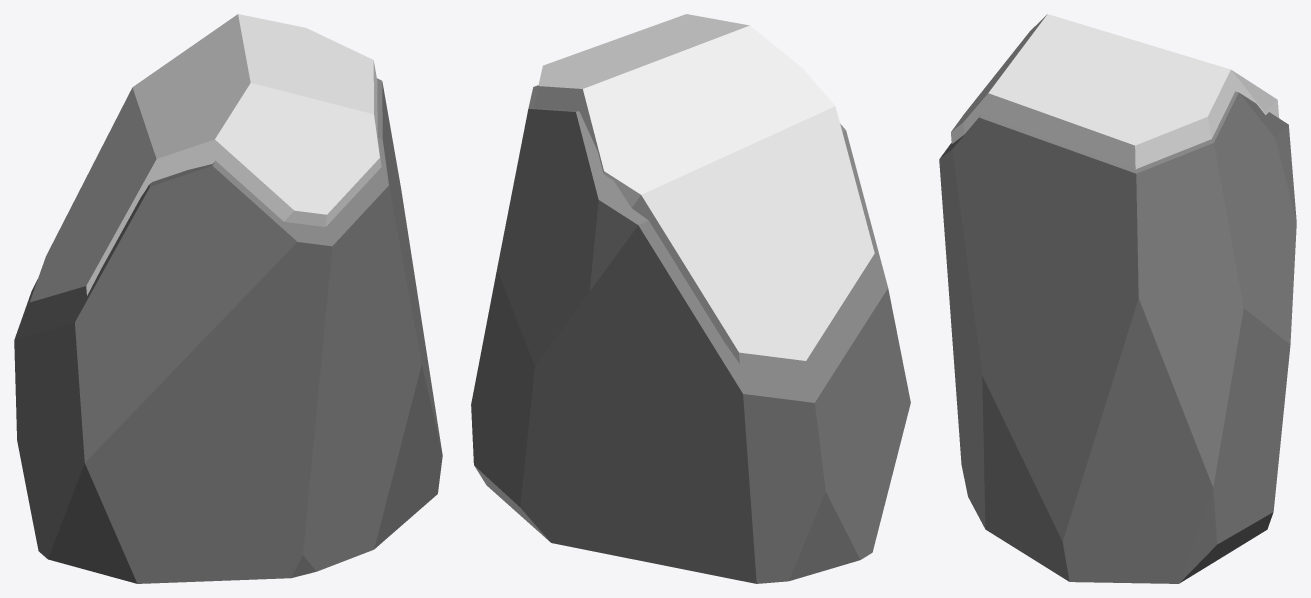
File: Stone_5_snow.fbx
The picture shows the model from 3 angles, left to right: view 1: azimuth 30°, elevation 25°; view 2: azimuth 150°, elevation 25°; view 3: azimuth 270°, elevation 25°; orthographic projection. The views are drawn at different scales.
Visible parts, largest first — view 1: Stone_5_snow; view 2: Stone_5_snow; view 3: Stone_5_snow.
Part boxes in pixels (box(x1,y1,x2,y2)): Stone_5_snow: box(14, 14, 442, 583); Stone_5_snow: box(471, 14, 910, 583); Stone_5_snow: box(939, 14, 1296, 583).
Size of the model in its own units: 83.72 by 102 by 70.29.
